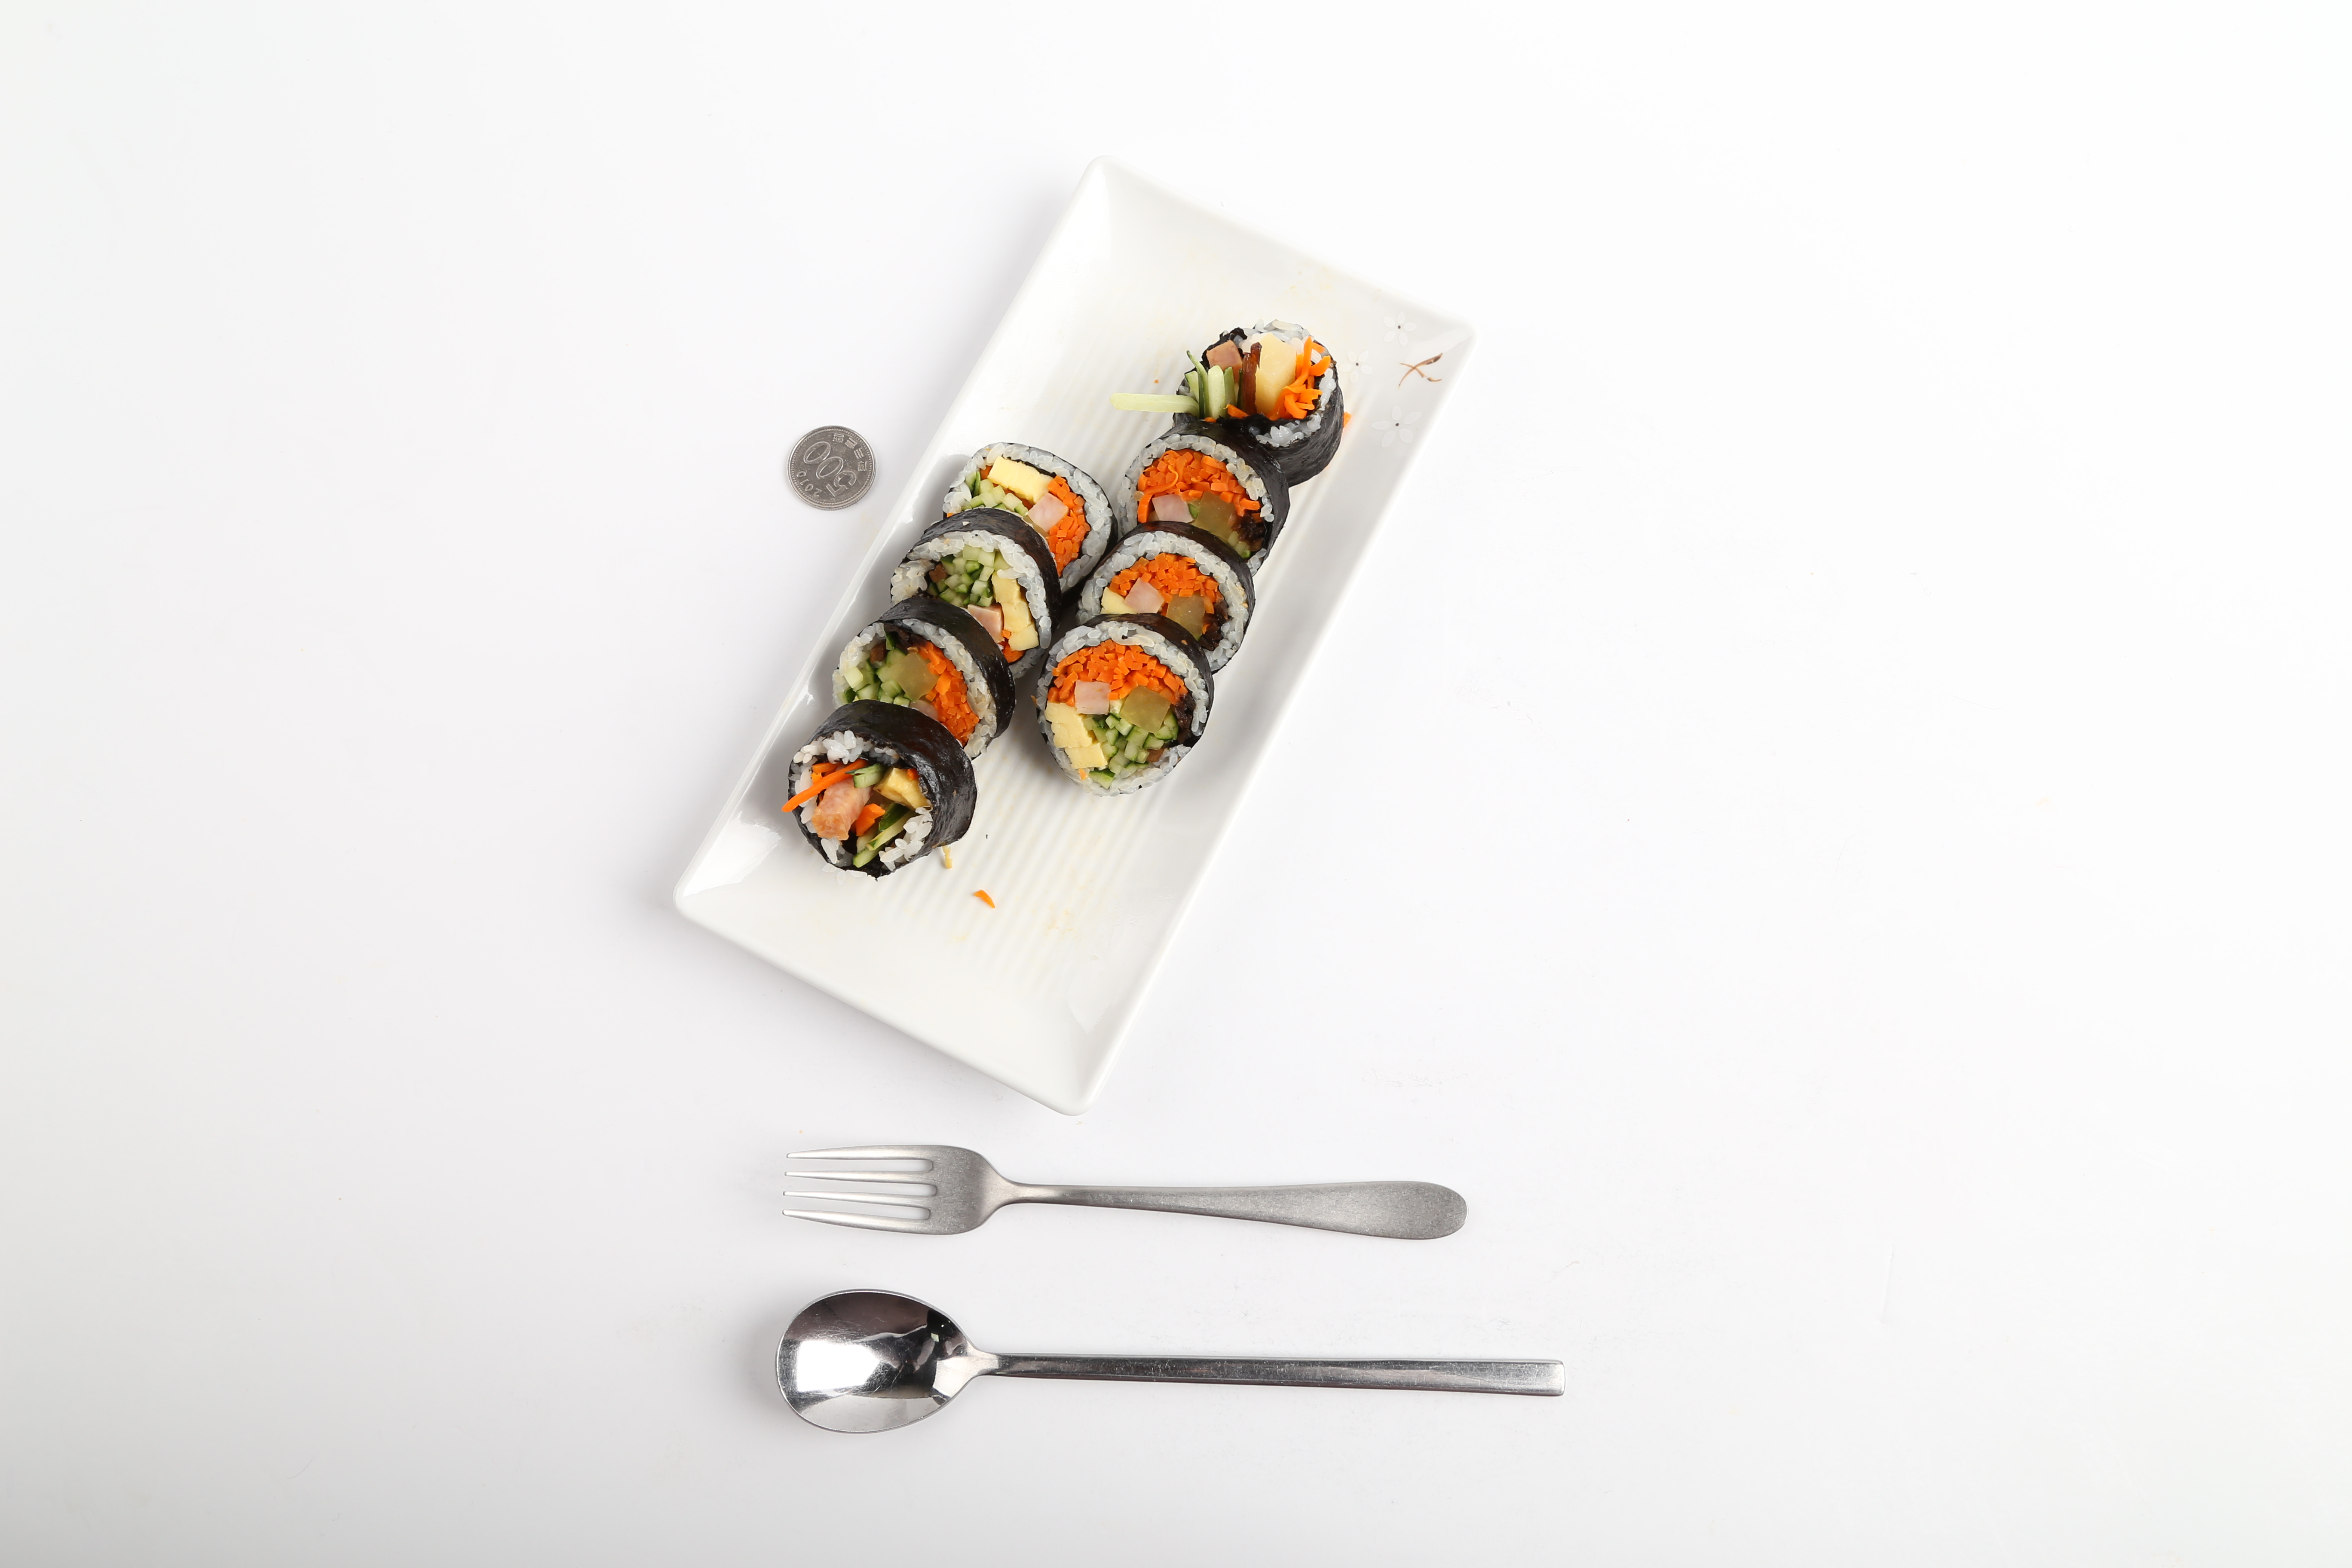dish: (668, 157, 1468, 1118)
ref_coin: (779, 416, 882, 513)
ref_fork: (779, 1141, 1083, 1242)
ref_spoon: (772, 1288, 1071, 1437)
김밥: (780, 318, 1344, 875)
